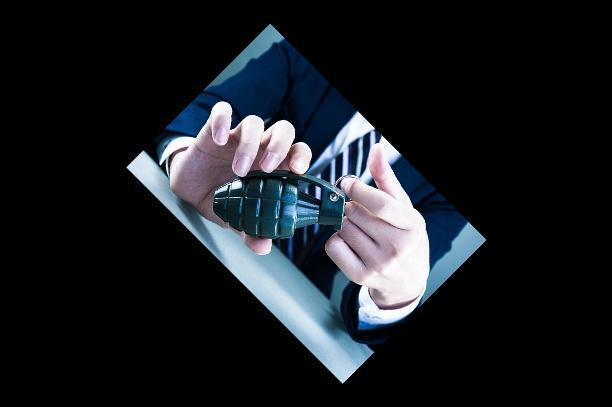Grenade: (212, 171, 359, 238)
